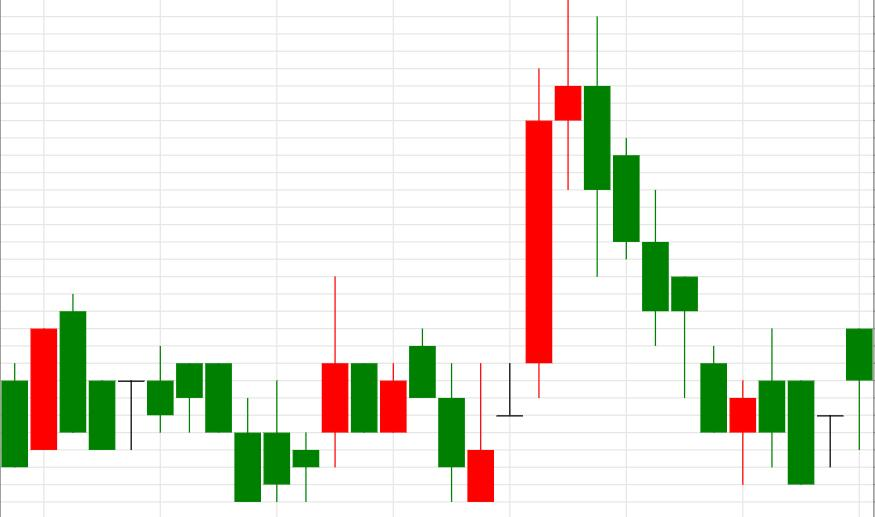hammer_rise: (554, 0, 698, 397)
